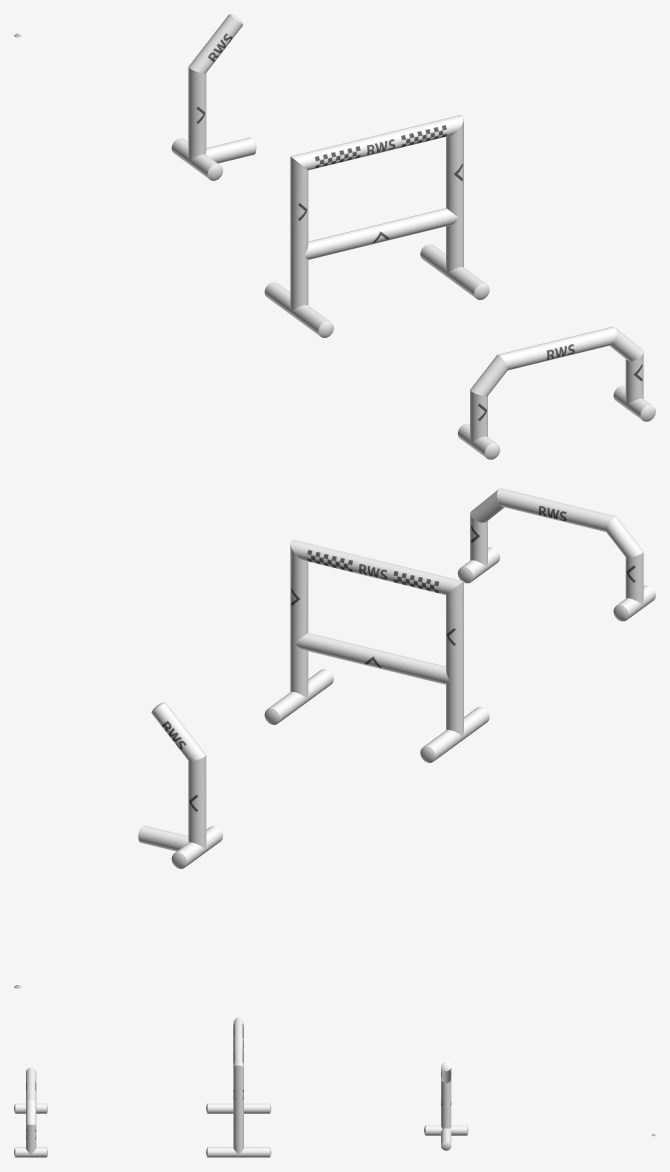
File: RaceKit.FBX
3 views of the same model, one above another, from view 1: azimuth 30°, elevation 25°; view 2: azimuth 150°, elevation 25°; view 3: azimuth 270°, elevation 25° (orthographic). The views are drawn at different scales.
Parts seen in each view (by area): view 1: Mesh_RaceGateB, Mesh_RaceGateA, Mesh_RaceFlag; view 2: Mesh_RaceGateB, Mesh_RaceGateA, Mesh_RaceFlag; view 3: Mesh_RaceGateB, Mesh_RaceGateA, Mesh_RaceFlag.
Part boxes in pixels (x1,y1,x2,y2): Mesh_RaceGateB: (264, 115, 489, 337); Mesh_RaceGateA: (457, 326, 655, 459); Mesh_RaceFlag: (171, 14, 256, 180); Mesh_RaceGateB: (264, 539, 489, 762); Mesh_RaceGateA: (457, 488, 655, 621); Mesh_RaceFlag: (138, 702, 222, 868); Mesh_RaceGateB: (206, 1017, 271, 1157); Mesh_RaceGateA: (14, 1067, 47, 1157); Mesh_RaceFlag: (424, 1061, 468, 1150).
Size of the model in its own units: 11 by 10 by 61.84.
Materials: 2 (1 with a texture image).
